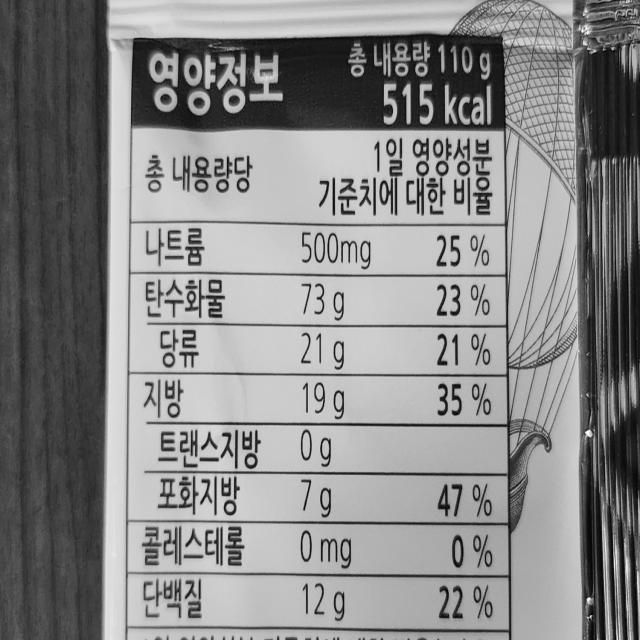Nutrition Label: (119, 18, 524, 640)
